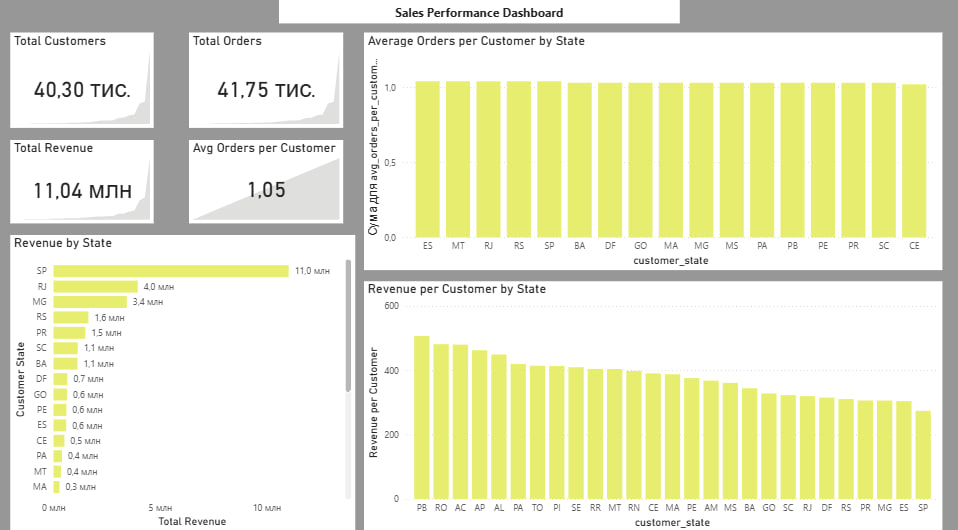

What the dashboard file says about the page in this screenshot:
{"tool":"powerbi","page":{"name":"Сторінка 1","canvas":[1280,720],"ordinal":0},"visuals":[{"type":"kpi","title":"Total Orders","fields":{"Indicator":["Sum(state_perfomance.total_orders)"],"TrendLine":["state_performance.total_orders"]},"box":[252.9,42.9,205.7,127.1],"z":0},{"type":"kpi","title":"Total Customers","fields":{"TrendLine":["state_perfomance.total_customers"],"Indicator":["Sum(state_perfomance.total_customers)"]},"box":[15.7,42.9,191.4,127.1],"z":1000},{"type":"kpi","title":"Avg Orders per Customer","fields":{"TrendLine":["state_perfomance.avg_orders_per_customer"],"Indicator":["Avg(state_perfomance.avg_orders_per_customer)"]},"box":[252.9,187.1,205.7,111.4],"z":2000},{"type":"clusteredBarChart","title":"Revenue by State","fields":{"Category":["state_perfomance.customer_state"],"Y":["Sum(state_perfomance.total_revenue)"]},"box":[15.7,312.9,460,395.7],"z":3000},{"type":"clusteredColumnChart","title":"Average Orders per Customer by State","fields":{"Y":["Sum(state_perfomance.avg_orders_per_customer)"],"Category":["state_perfomance.customer_state"]},"box":[487.1,42.9,771.4,317.1],"z":4000},{"type":"kpi","title":"Total Revenue","fields":{"TrendLine":["state_performance.total_revenue"],"Indicator":["Sum(state_performance.total_revenue)"]},"box":[15.7,187.1,191.4,111.4],"z":5000},{"type":"clusteredColumnChart","title":"Revenue per Customer by State","fields":{"Y":["state_performance.Revenue per Customer"],"Category":["state_performance.customer_state"]},"box":[487.1,374.3,771.4,334.3],"z":6000},{"type":"textbox","box":[372.9,0,534.3,31.4],"z":6001}]}

Visuals, with their boxes in screenshot pixels (x1, y1, x2, y2), scaled from the page's 1280x720 canvas onto the 958x530 screenshot:
"Total Orders" kpi: pyautogui.locateOnScreen(189, 32, 343, 125)
"Total Customers" kpi: pyautogui.locateOnScreen(12, 32, 155, 125)
"Avg Orders per Customer" kpi: pyautogui.locateOnScreen(189, 138, 343, 220)
"Revenue by State" clusteredBarChart: pyautogui.locateOnScreen(12, 230, 356, 522)
"Average Orders per Customer by State" clusteredColumnChart: pyautogui.locateOnScreen(365, 32, 942, 265)
"Total Revenue" kpi: pyautogui.locateOnScreen(12, 138, 155, 220)
"Revenue per Customer by State" clusteredColumnChart: pyautogui.locateOnScreen(365, 276, 942, 522)
textbox: pyautogui.locateOnScreen(279, 0, 679, 23)
